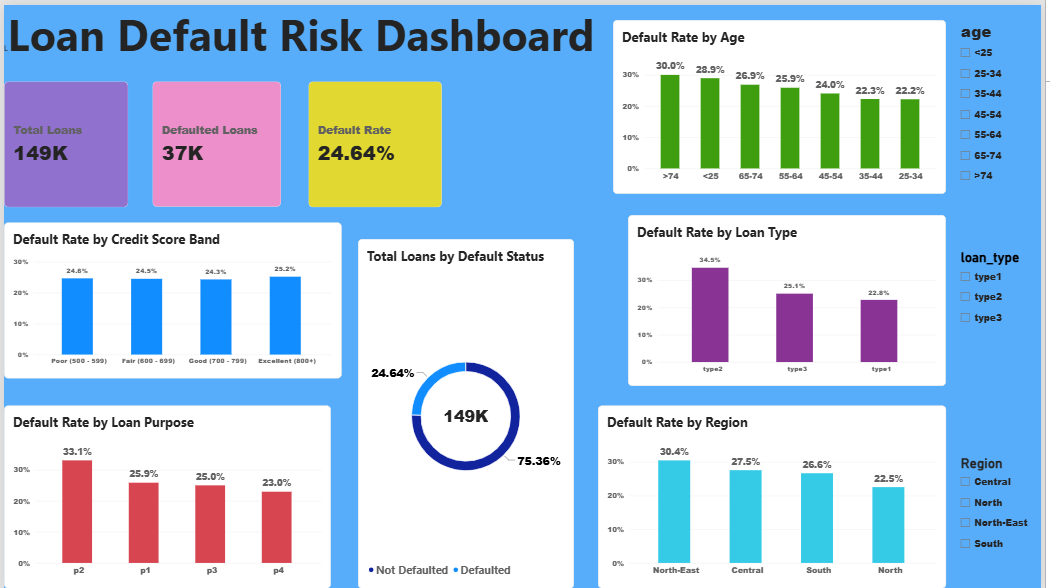

This screenshot's page, from the dashboard's own definition file:
{"tool":"powerbi","page":{"name":"Page 1","canvas":[1920,1080],"ordinal":0},"visuals":[{"type":"clusteredColumnChart","title":"Default Rate by Credit Score Band","fields":{"Category":["Loan_Default.Credit Score Band"],"Y":["Loan_Default.Default Rate"]},"box":[0,402.8,625,288.9],"z":1},{"type":"clusteredColumnChart","title":"Default Rate by Region","fields":{"Category":["Loan_Default.Region"],"Y":["Loan_Default.Default Rate"]},"box":[1100,741.7,644.4,338.9],"z":2},{"type":"clusteredColumnChart","title":"Default Rate by Age","fields":{"Category":["Loan_Default.age"],"Y":["Loan_Default.Default Rate"]},"box":[1127.8,27.8,616.7,322.2],"z":3},{"type":"clusteredColumnChart","title":"Default Rate by Loan Type","fields":{"Category":["Loan_Default.loan_type"],"Y":["Loan_Default.Default Rate"]},"box":[1155.6,388.9,588.9,316.7],"z":4},{"type":"clusteredColumnChart","title":"Default Rate by Loan Purpose","fields":{"Category":["Loan_Default.loan_purpose"],"Y":["Loan_Default.Default Rate"]},"box":[0,741.7,605.6,338.9],"z":5},{"type":"cardVisual","fields":{"Data":["Loan_Default.Defaulted Loans"]},"box":[275,141.7,238.1,232.4],"z":7},{"type":"cardVisual","fields":{"Data":["Loan_Default.Total Loans"]},"box":[0,141.7,230.6,233.3],"z":8},{"type":"cardVisual","fields":{"Data":["Loan_Default.Default Rate"]},"box":[563.9,141.7,247.2,233.3],"z":9},{"type":"slicer","fields":{"Values":["Loan_Default.Region"]},"box":[1763.9,833.3,155.6,247.2],"z":10},{"type":"slicer","fields":{"Values":["Loan_Default.loan_type"]},"box":[1763.9,452.8,155.6,252.8],"z":12},{"type":"donutChart","fields":{"Category":["Loan_Default.Default Status"],"Y":["Loan_Default.Total Loans"]},"box":[655.6,433.3,400,647.2],"z":13},{"type":"textbox","box":[0,0,1127.7,107.5],"z":14},{"type":"slicer","fields":{"Values":["Loan_Default.age"]},"box":[1763.9,27.8,155.6,347.2],"z":15}]}

Visuals, with their boxes in screenshot pixels (x1, y1, x2, y2), scaled from the page's 1920x1080 canvas onto the 1050x588 screenshot:
"Default Rate by Credit Score Band" clusteredColumnChart: x1=0 y1=219 x2=342 y2=377
"Default Rate by Region" clusteredColumnChart: x1=602 y1=404 x2=954 y2=587
"Default Rate by Age" clusteredColumnChart: x1=617 y1=15 x2=954 y2=191
"Default Rate by Loan Type" clusteredColumnChart: x1=632 y1=212 x2=954 y2=384
"Default Rate by Loan Purpose" clusteredColumnChart: x1=0 y1=404 x2=331 y2=587
cardVisual - Loan_Default.Defaulted Loans: x1=150 y1=77 x2=281 y2=204
cardVisual - Loan_Default.Total Loans: x1=0 y1=77 x2=126 y2=204
cardVisual - Loan_Default.Default Rate: x1=308 y1=77 x2=444 y2=204
slicer - Loan_Default.Region: x1=965 y1=454 x2=1049 y2=587
slicer - Loan_Default.loan_type: x1=965 y1=247 x2=1049 y2=384
donutChart - Loan_Default.Default Status x Loan_Default.Total Loans: x1=359 y1=236 x2=577 y2=587
textbox: x1=0 y1=0 x2=617 y2=59
slicer - Loan_Default.age: x1=965 y1=15 x2=1049 y2=204
